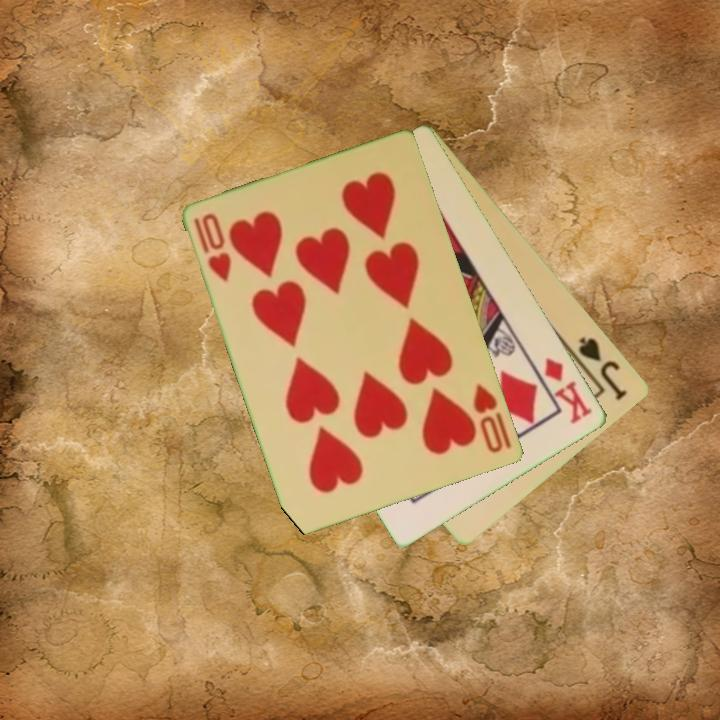10h: (470, 380, 515, 456), (191, 210, 235, 285)
Js: (575, 333, 631, 404)
Kd: (541, 354, 596, 428)
